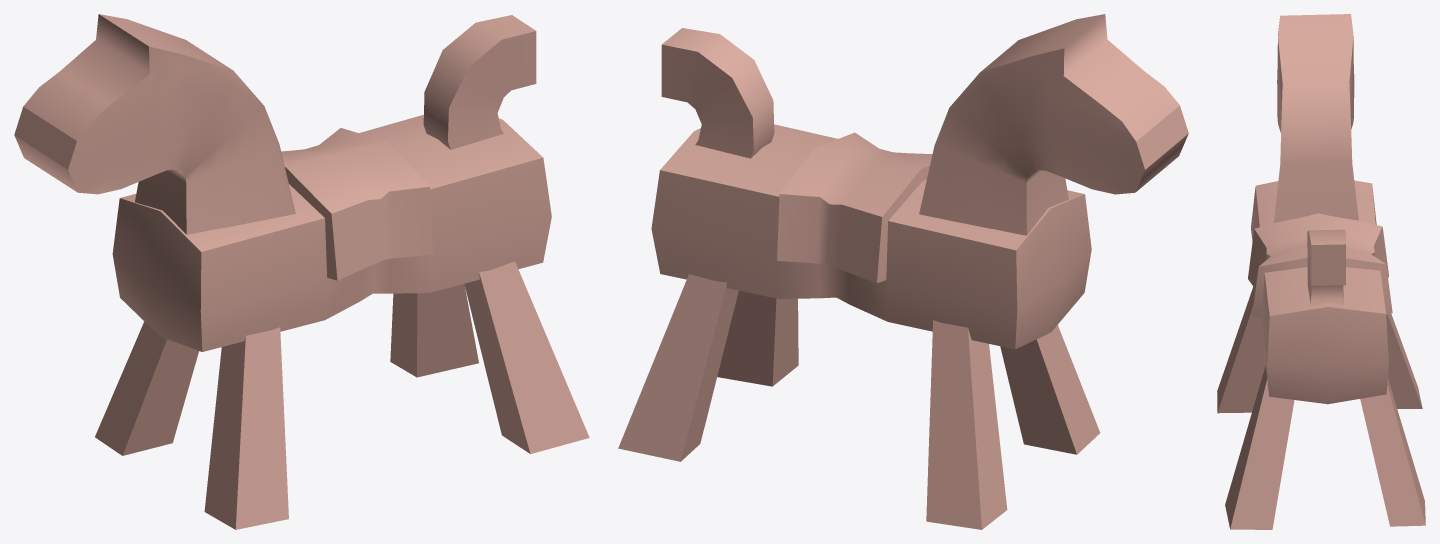
Rendered from Toy_Horse_231109.glb.
3 renders of one model, left to right at view 1: azimuth 30°, elevation 25°; view 2: azimuth 150°, elevation 25°; view 3: azimuth 270°, elevation 25°, orthographic. The views are drawn at different scales.
Parts seen in each view (by area): view 1: Toy_Horse; view 2: Toy_Horse; view 3: Toy_Horse.
Boxes of the visible parts, box(x1,y1,x2,y2) form: Toy_Horse: box(14, 14, 589, 529); Toy_Horse: box(618, 14, 1188, 529); Toy_Horse: box(1217, 14, 1425, 529).
Bounding box in the file's own units: 1.47 × 1.33 × 0.6958.
Materials: 1 (1 with a texture image).
